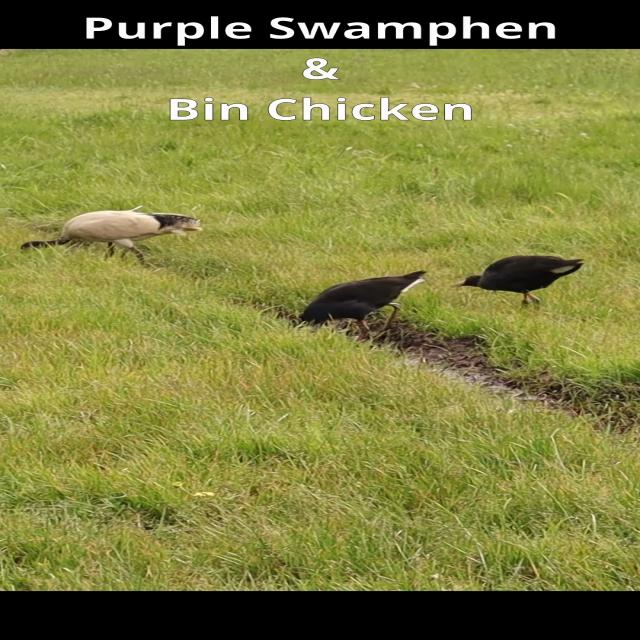Birds-Ibis: (16, 208, 203, 270)
Birds-Other: (290, 266, 432, 341), (456, 252, 587, 310)
